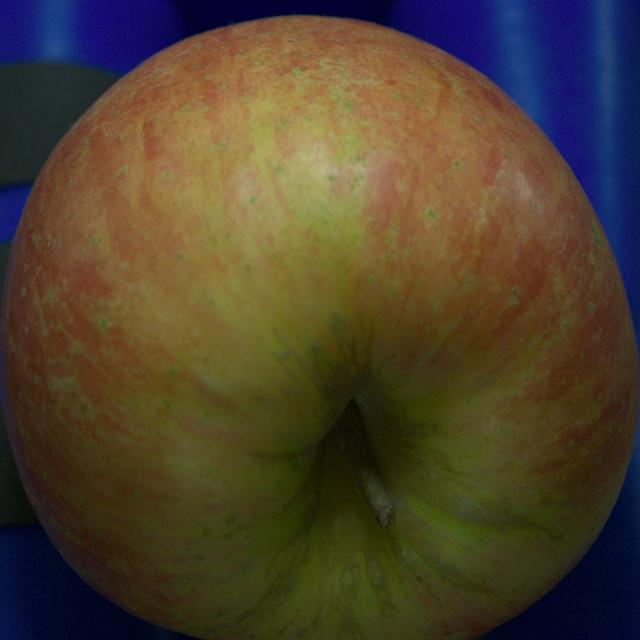apple: (0, 17, 639, 639)
